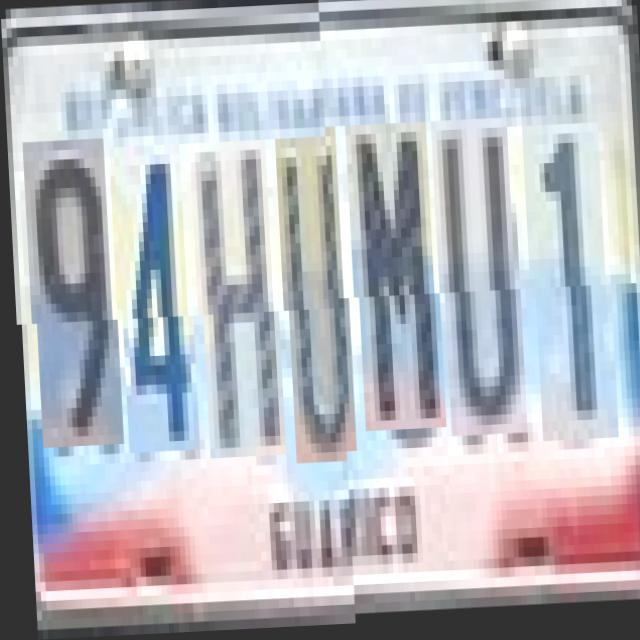1: (526, 138, 614, 456)
4: (112, 146, 195, 454)
9: (26, 139, 119, 448)
H: (193, 142, 281, 460)
M: (349, 136, 442, 444)
U: (434, 132, 522, 450), (278, 139, 352, 466)
